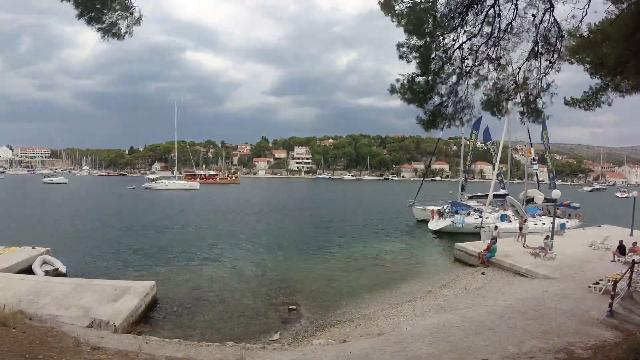Freighter: (176, 160, 248, 188)
Sailboat: (138, 166, 202, 195), (38, 168, 72, 188)
